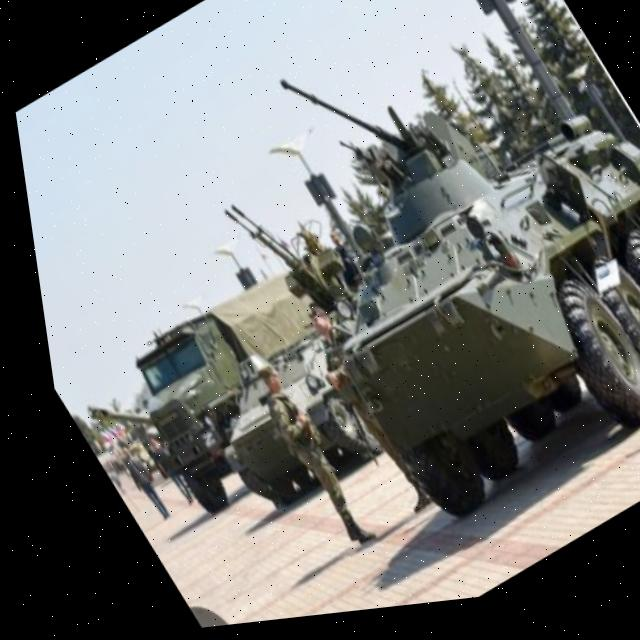MIL_APC: (210, 37, 640, 549)
